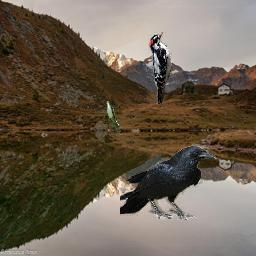Crow: (120, 146, 218, 221)
Cuckoo: (107, 102, 122, 135)
Woodpecker: (148, 32, 172, 104)
